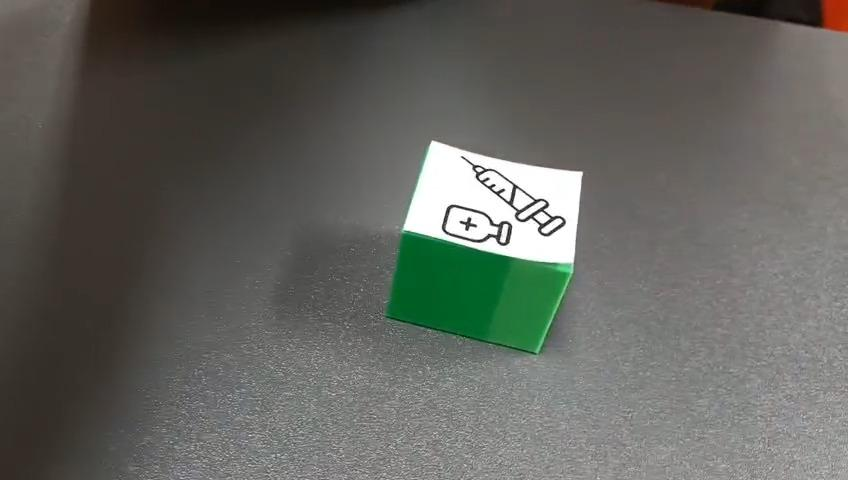antiseptic cream: (383, 138, 584, 354)
